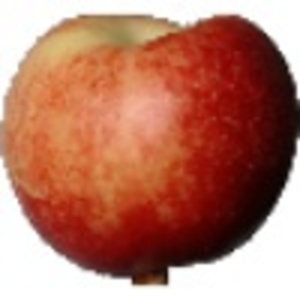nectarina: (1, 11, 300, 290)
